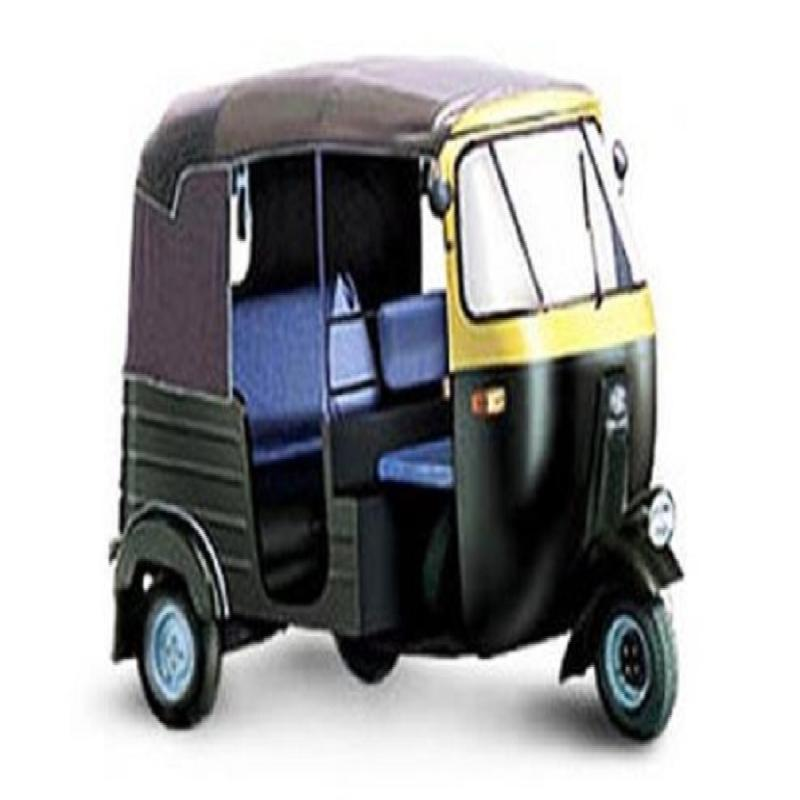bike: (125, 69, 660, 717)
